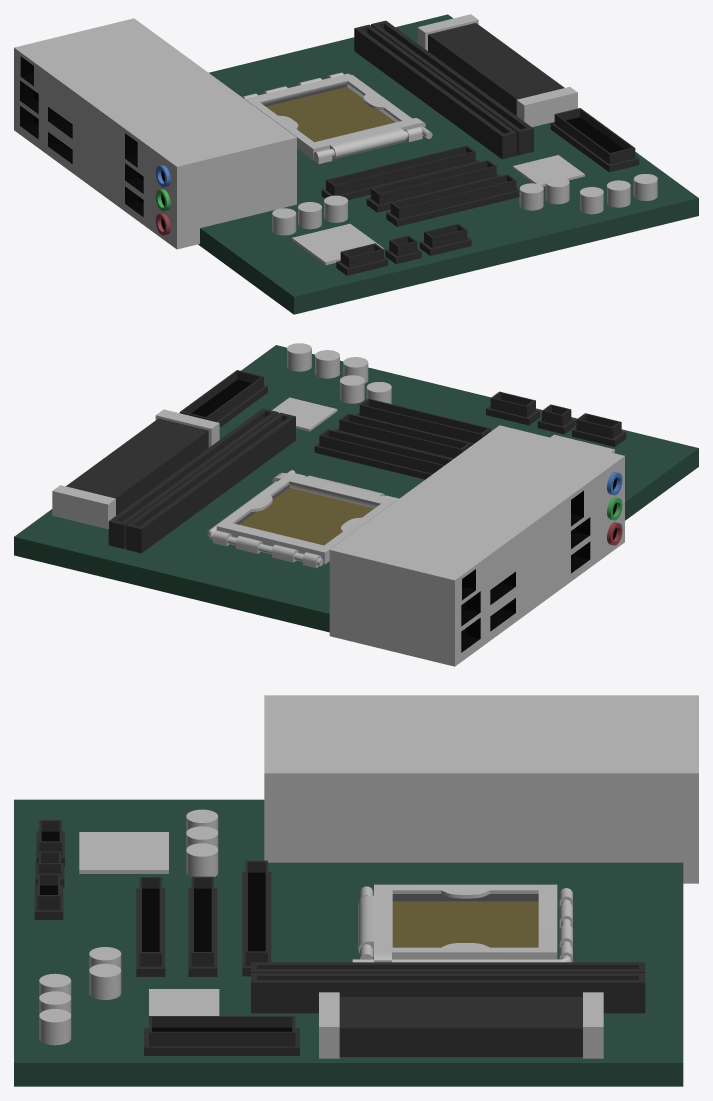
The model's file is USUS AM3 DDR3.fbx.
3 renders of one model, top to bottom at view 1: azimuth 30°, elevation 25°; view 2: azimuth 150°, elevation 25°; view 3: azimuth 270°, elevation 25°, orthographic. The views are drawn at different scales.
Visible parts, largest first — view 1: Cube.002, Plane, Cube.001, Cube.014, Cube.008, Cube.007, Cube.019, Cube.024, Cube.023, Cube.003, Cube.015, Cylinder.011 (+9 smaller); view 2: Cube.002, Plane, Cube.001, Cube.014, Cube.008, Cube.007, Cube.024, Cube.015, Cube.003, Cube.023, Cube.019, Cylinder.006 (+8 smaller); view 3: Plane, Cube.002, Cube.001, Cube.014, Cube.008, Cube.007, Cube.023, Cube.004, Cube.024, Cube.003, Cube.019, Cube.015 (+9 smaller).
Part boxes in pixels (bbox=[...]): Cube.002: bbox=[14, 18, 296, 249]; Plane: bbox=[198, 14, 698, 314]; Cube.001: bbox=[354, 20, 533, 159]; Cube.014: bbox=[428, 23, 564, 115]; Cube.008: bbox=[245, 73, 425, 160]; Cube.007: bbox=[266, 87, 395, 141]; Cube.019: bbox=[386, 174, 519, 226]; Cube.024: bbox=[321, 145, 479, 199]; Cube.023: bbox=[550, 108, 639, 172]; Cube.003: bbox=[366, 160, 499, 212]; Cube.015: bbox=[417, 14, 577, 126]; Cylinder.011: bbox=[272, 195, 347, 235]; Cube.002: bbox=[329, 425, 624, 666]; Plane: bbox=[14, 345, 698, 632]; Cube.001: bbox=[108, 408, 295, 553]; Cube.014: bbox=[66, 418, 208, 515]; Cube.008: bbox=[216, 472, 396, 564]; Cube.007: bbox=[239, 488, 374, 545]; Cube.024: bbox=[314, 429, 452, 479]; Cube.015: bbox=[52, 409, 219, 529]; Cube.003: bbox=[335, 413, 470, 459]; Cube.023: bbox=[179, 370, 267, 427]; Cube.019: bbox=[356, 398, 490, 445]; Cylinder.006: bbox=[287, 343, 368, 383]; Plane: bbox=[14, 799, 683, 1086]; Cube.002: bbox=[264, 695, 698, 883]; Cube.001: bbox=[251, 962, 645, 1013]; Cube.014: bbox=[339, 997, 582, 1056]; Cube.008: bbox=[358, 884, 557, 962]; Cube.007: bbox=[392, 901, 538, 947]; Cube.023: bbox=[144, 1016, 299, 1055]; Cube.004: bbox=[79, 832, 168, 873]; Cube.024: bbox=[242, 860, 271, 976]; Cube.003: bbox=[188, 876, 217, 976]; Cube.019: bbox=[136, 877, 165, 976]; Cube.015: bbox=[319, 992, 603, 1058].
Size of the model in its own units: 234 by 43.93 by 241.
